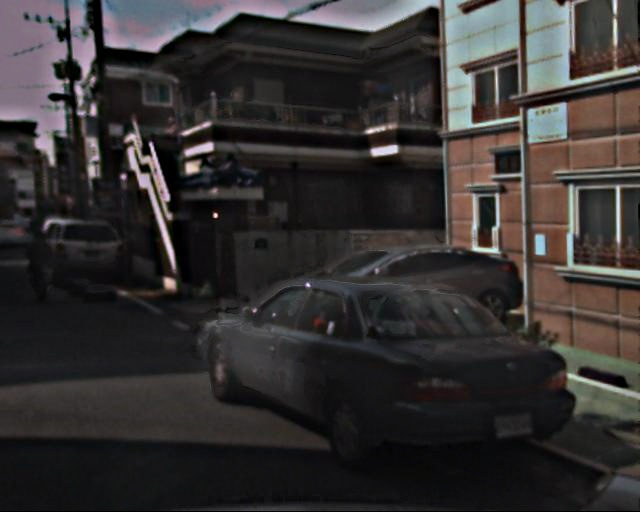person: (25, 222, 62, 304)
